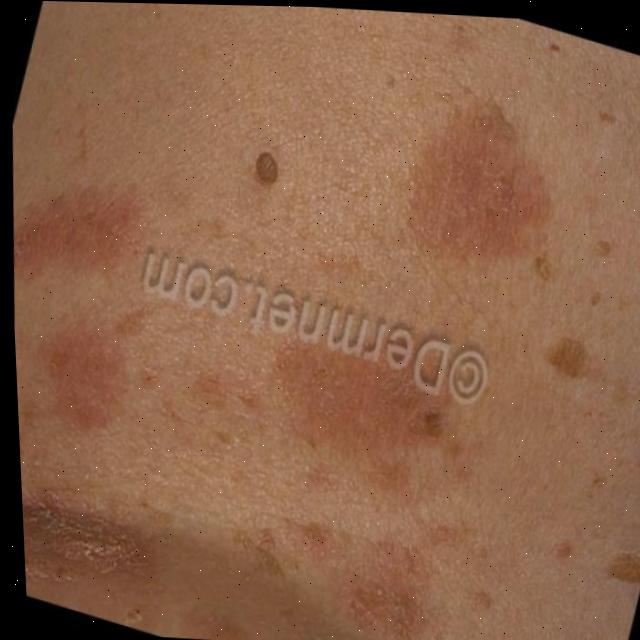Eczema: (22, 502, 421, 640), (270, 327, 461, 441), (414, 110, 542, 251), (16, 324, 137, 438), (10, 185, 131, 282)
